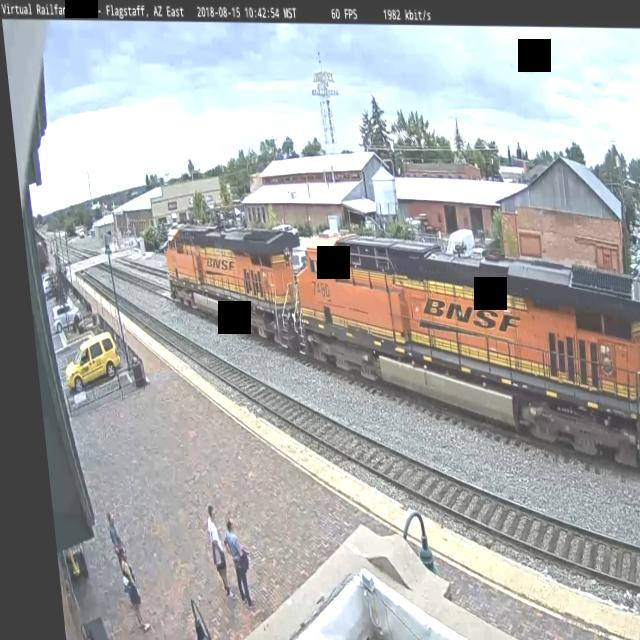locomotive: (282, 224, 640, 479), (154, 214, 305, 351)
